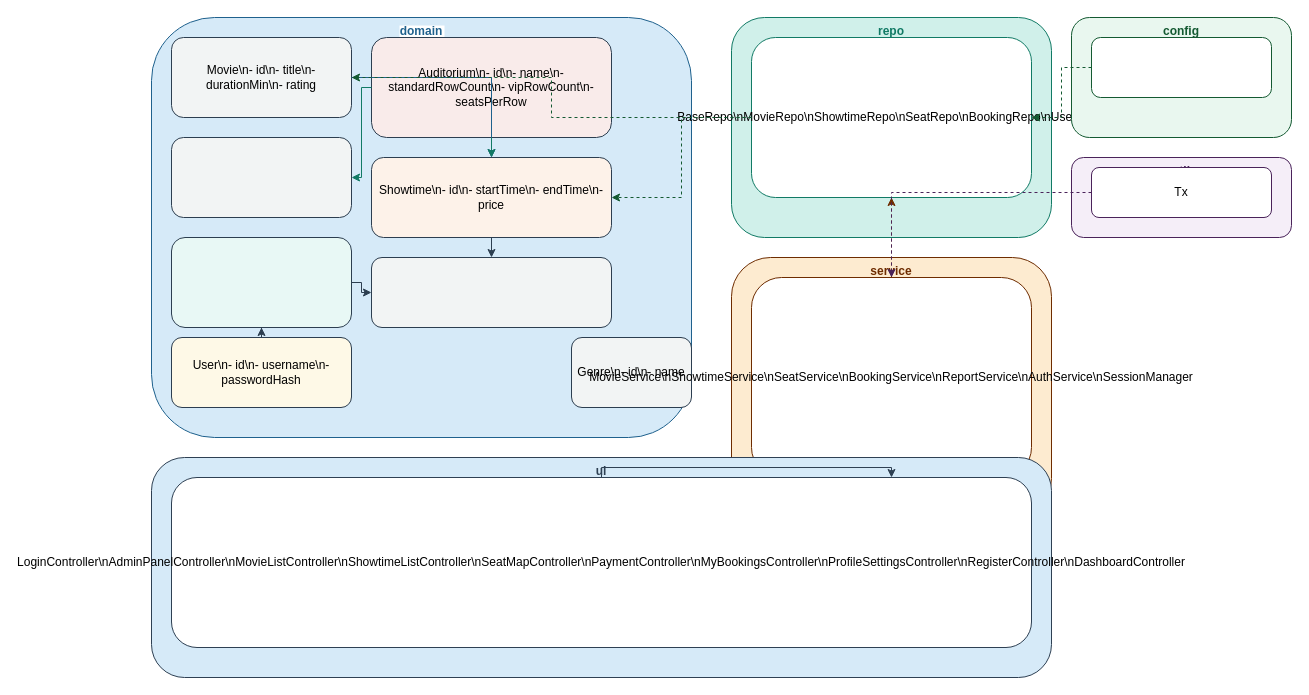
Image size: 1309x695. Some labels were removed from this diagram. The shapes that lost their labels are listed below. From the top down, each one's centre as x and y in pixels, then its label:
the point at 1181,67: Database
the point at 261,177: Seat\n- id\n- rowLabel\n- seatNumber\n- seatType
the point at 261,282: Booking\n- id\n- userId\n- showtimeId\n- totalAmount
the point at 491,292: Ticket\n- id\n- seatId\n- showtimeId\n- bookingId
